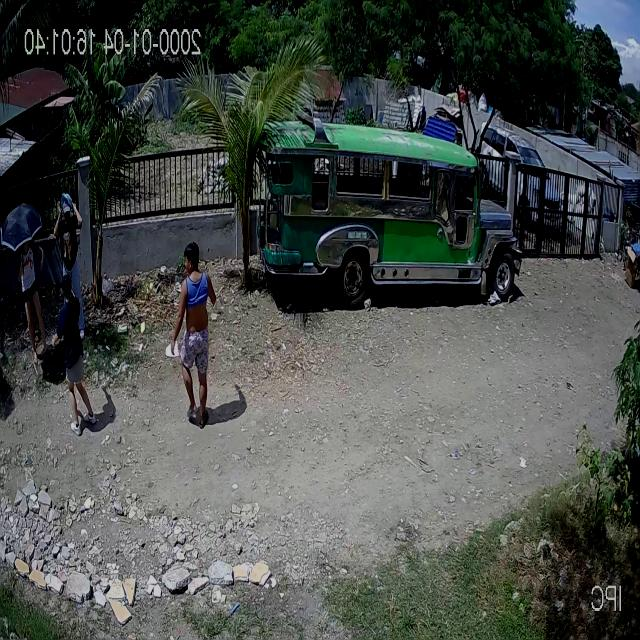standing: (54, 272, 96, 437), (15, 229, 48, 366), (55, 188, 81, 306)
walking: (173, 239, 217, 436)
